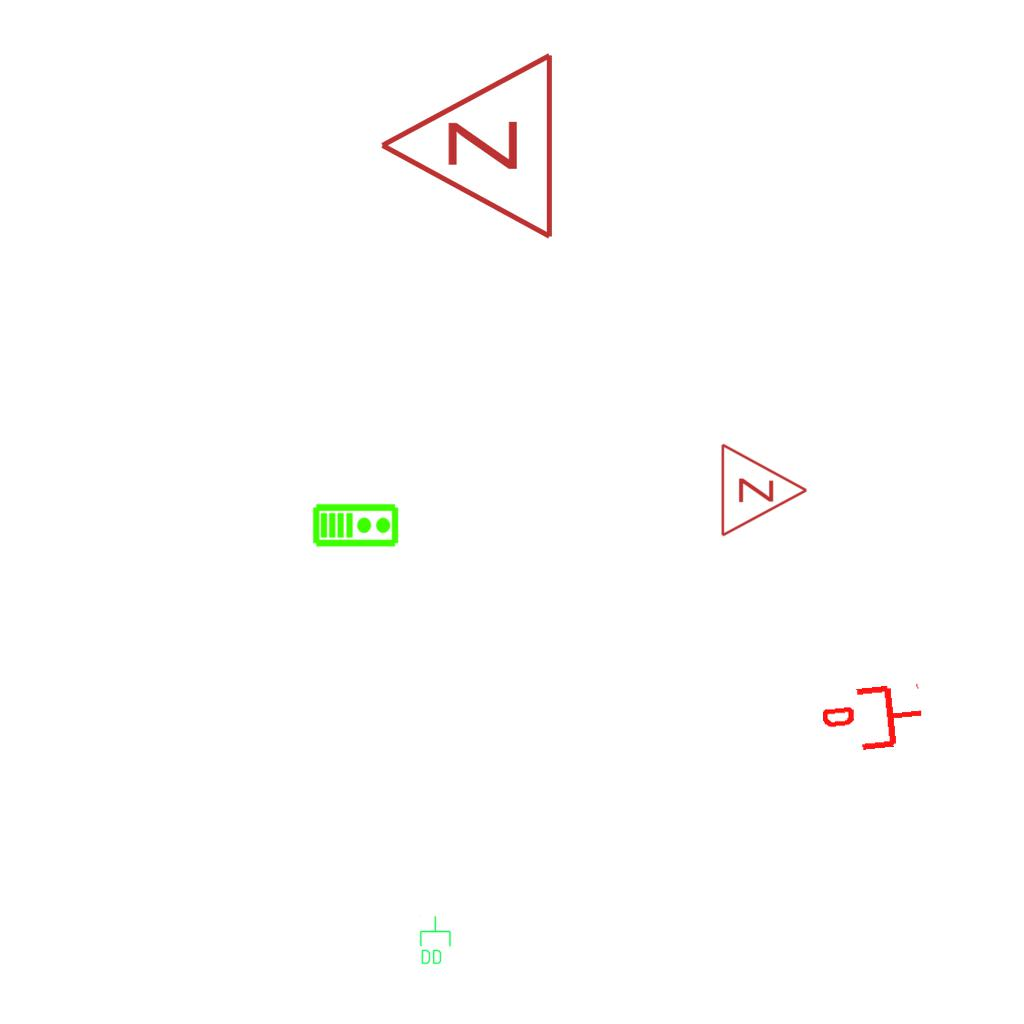Datenanschluss_einfach: (820, 678, 927, 758)
Datenanschluss_zweifach: (418, 915, 452, 966)
Gegensprechanlage_mit_Video: (312, 501, 400, 548)
Zimmersignalleuchte: (367, 50, 567, 246), (714, 440, 814, 538)
